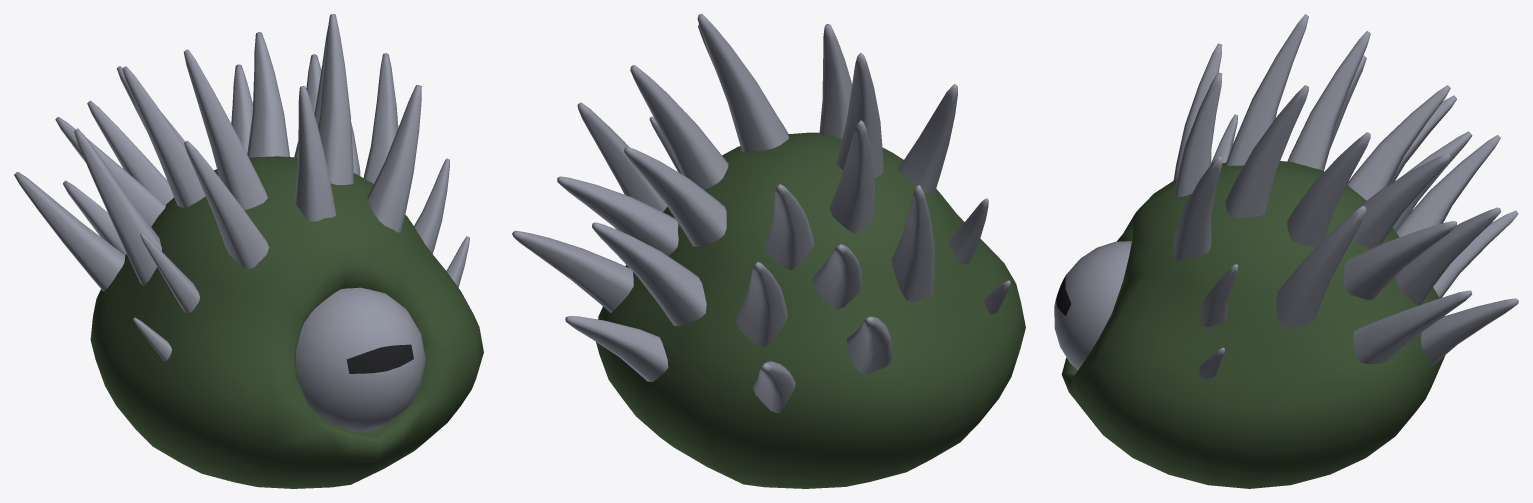
Rendered from cc0-spiky-blob-lod0.glb.
3 renders of one model, left to right at view 1: azimuth 30°, elevation 25°; view 2: azimuth 150°, elevation 25°; view 3: azimuth 270°, elevation 25°, orthographic. The views are drawn at different scales.
Parts seen in each view (by area): view 1: part_4; view 2: part_4; view 3: part_4.
Boxes of the visible parts, x1,y1,x2,y2 form: part_4: (14, 14, 483, 488); part_4: (512, 14, 1025, 488); part_4: (1054, 14, 1518, 488).
Size of the model in its own units: 3.5 by 4.14 by 4.16.
1 material, 1 textured.
